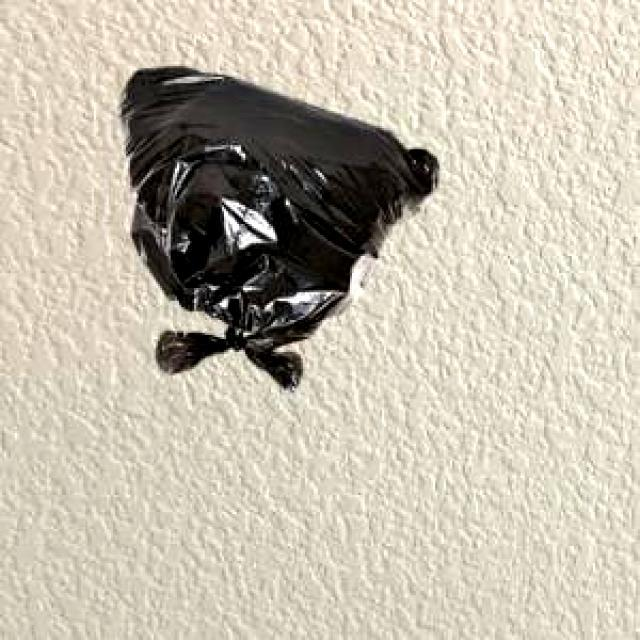Garbage_Bag: (114, 62, 434, 390)
